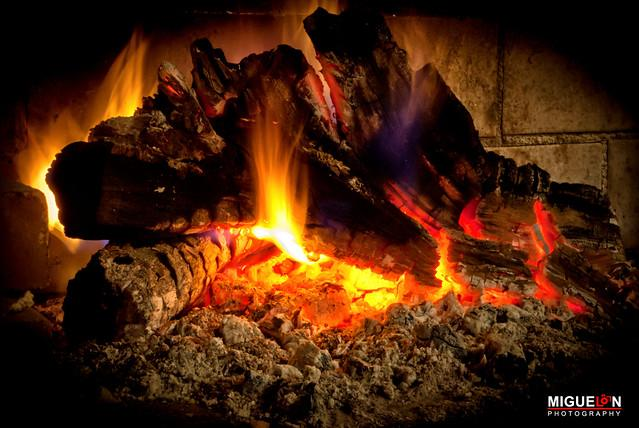fire: (226, 103, 337, 286), (419, 192, 582, 312), (22, 46, 152, 173)
